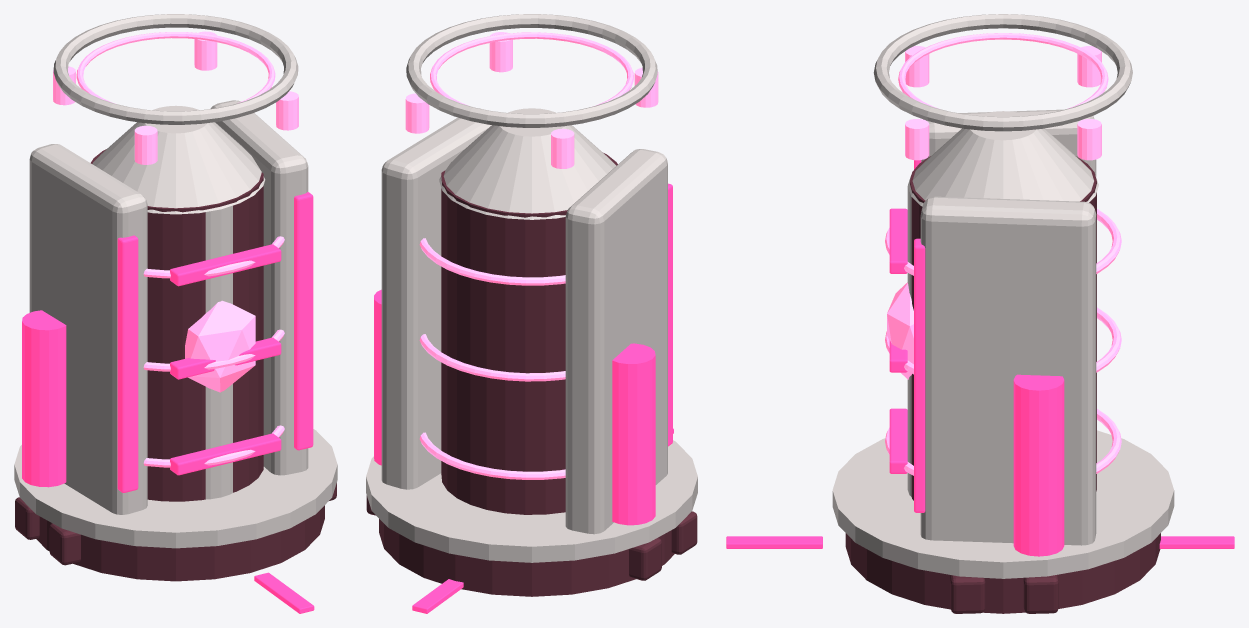
Rendered from matron_surgical_pod.glb.
The picture shows the model from 3 angles, left to right: view 1: azimuth 30°, elevation 25°; view 2: azimuth 150°, elevation 25°; view 3: azimuth 270°, elevation 25°; orthographic projection. The views are drawn at different scales.
Visible parts, largest first — view 1: Pod_ShellPanel_-1, Pod_Body, Pod_BaseCollar, Pod_ShellPanel_1, Pod_TopCap, Pod_Base, Pod_SurgicalLamp, Pod_SideCanister_-1, Pod_ShellInset_-1, Pod_ShellInset_1, Pod_InnerColumn, Pod_Core (+13 smaller); view 2: Pod_Body, Pod_ShellPanel_-1, Pod_ShellPanel_1, Pod_BaseCollar, Pod_TopCap, Pod_Base, Pod_SurgicalLamp, Pod_SideCanister_-1, Pod_LampGlow, Pod_ScanRing_1.15, Pod_ScanRing_3.32, Pod_ScanRing_2.25 (+9 smaller); view 3: Pod_ShellPanel_1, Pod_BaseCollar, Pod_TopCap, Pod_SideCanister_1, Pod_SurgicalLamp, Pod_Base, Pod_ShellInset_1, Pod_LampGlow, Pod_ShellPanel_-1, Pod_Body, Pod_Core, Pod_Foot_1_1 (+13 smaller).
Part boxes in pixels (left/top/right/bottom): Pod_ShellPanel_-1: left=29, top=144, right=147, bottom=514; Pod_Body: left=91, top=149, right=263, bottom=501; Pod_BaseCollar: left=14, top=429, right=337, bottom=548; Pod_ShellPanel_1: left=210, top=100, right=308, bottom=475; Pod_TopCap: left=92, top=105, right=265, bottom=214; Pod_Base: left=36, top=505, right=324, bottom=581; Pod_SurgicalLamp: left=53, top=14, right=298, bottom=124; Pod_SideCanister_-1: left=22, top=310, right=66, bottom=487; Pod_ShellInset_-1: left=117, top=235, right=138, bottom=492; Pod_ShellInset_1: left=294, top=192, right=313, bottom=450; Pod_InnerColumn: left=205, top=205, right=232, bottom=499; Pod_Core: left=185, top=300, right=255, bottom=392; Pod_Body: left=441, top=153, right=617, bottom=514; Pod_ShellPanel_-1: left=565, top=149, right=667, bottom=534; Pod_ShellPanel_1: left=381, top=108, right=491, bottom=489; Pod_BaseCollar: left=366, top=440, right=697, bottom=562; Pod_TopCap: left=439, top=108, right=616, bottom=219; Pod_Base: left=379, top=519, right=674, bottom=596; Pod_SurgicalLamp: left=406, top=14, right=657, bottom=127; Pod_SideCanister_-1: left=612, top=343, right=655, bottom=525; Pod_LampGlow: left=430, top=32, right=633, bottom=105; Pod_ScanRing_1.15: left=419, top=432, right=565, bottom=479; Pod_ScanRing_3.32: left=419, top=238, right=565, bottom=285; Pod_ScanRing_2.25: left=419, top=334, right=565, bottom=381; Pod_ShellPanel_1: left=920, top=196, right=1096, bottom=545; Pod_BaseCollar: left=832, top=430, right=1174, bottom=578; Pod_TopCap: left=908, top=111, right=1098, bottom=206; Pod_SideCanister_1: left=1013, top=374, right=1064, bottom=556; Pod_SurgicalLamp: left=873, top=14, right=1132, bottom=131; Pod_Base: left=845, top=533, right=1160, bottom=613; Pod_ShellInset_1: left=914, top=238, right=925, bottom=512; Pod_LampGlow: left=898, top=33, right=1108, bottom=108; Pod_ShellPanel_-1: left=921, top=109, right=1096, bottom=176; Pod_Body: left=910, top=156, right=1096, bottom=500; Pod_Core: left=887, top=282, right=913, bottom=379; Pod_Foot_1_1: left=1023, top=575, right=1058, bottom=613.
Bounding box in the file's own units: 3.36 × 5.23 × 5.
